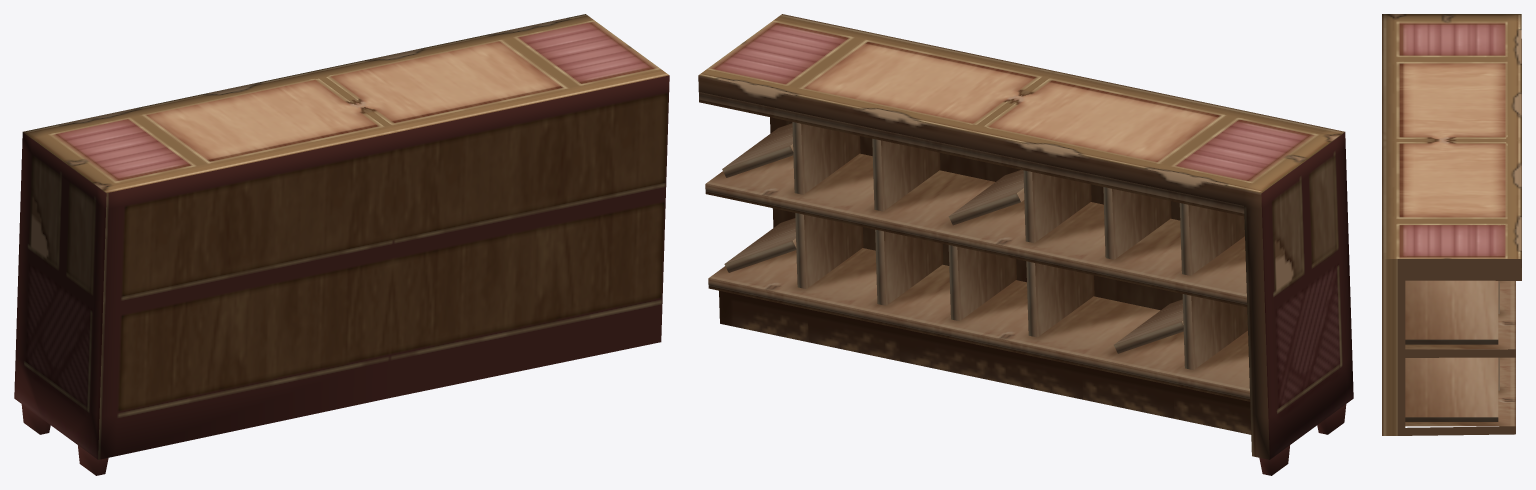
The model's file is a_SWGfoot01b02.glb.
3 renders of one model, left to right at view 1: azimuth 30°, elevation 25°; view 2: azimuth 150°, elevation 25°; view 3: azimuth 270°, elevation 25°, orthographic. The views are drawn at different scales.
Parts seen in each view (by area): view 1: a_SWGfoot01b02; view 2: a_SWGfoot01b02; view 3: a_SWGfoot01b02.
Part boxes in pixels (<box>): a_SWGfoot01b02: <box>14,14,669,475</box>; a_SWGfoot01b02: <box>698,14,1353,475</box>; a_SWGfoot01b02: <box>1382,14,1521,435</box>.
Bounding box in the file's own units: 2.76 × 1.32 × 0.701.
1 material, 1 textured.
